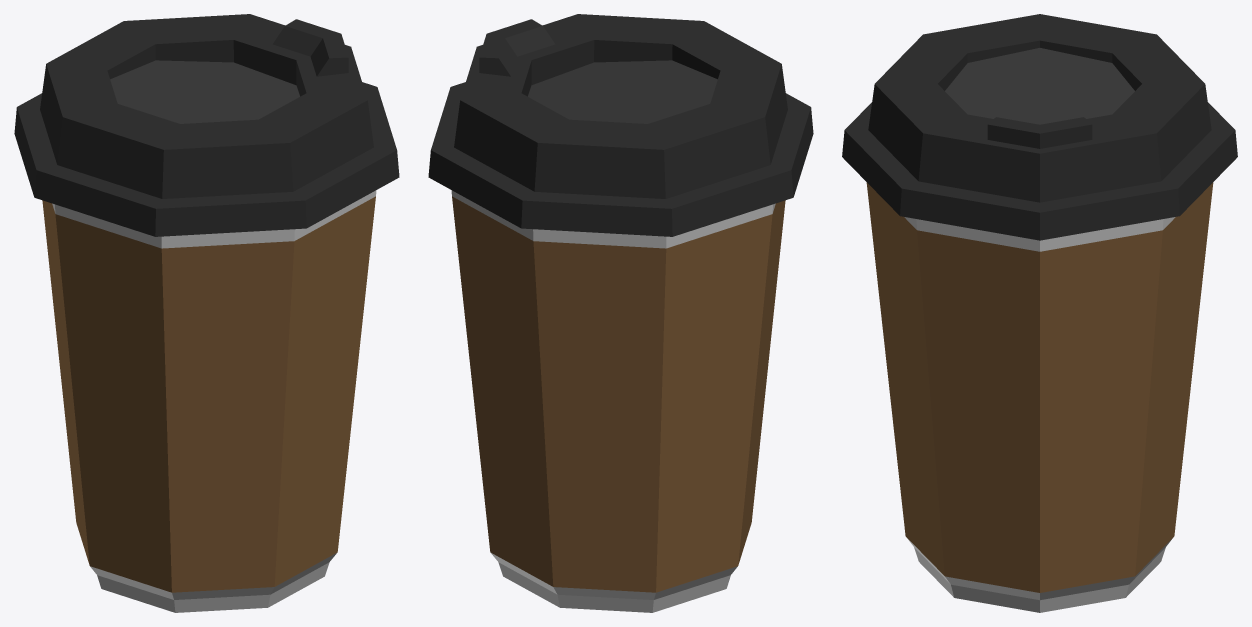
Rendered from coffee_cup_1.obj.
3 renders of one model, left to right at view 1: azimuth 30°, elevation 25°; view 2: azimuth 150°, elevation 25°; view 3: azimuth 270°, elevation 25°, orthographic.
Visible parts, largest first — view 1: coffee_cup_1; view 2: coffee_cup_1; view 3: coffee_cup_1.
Part boxes in pixels (left/top/right/bottom): coffee_cup_1: left=14, top=14, right=399, bottom=612; coffee_cup_1: left=428, top=14, right=813, bottom=612; coffee_cup_1: left=842, top=14, right=1237, bottom=612.
Size of the model in its own units: 0.1551 by 0.2132 by 0.1551.
